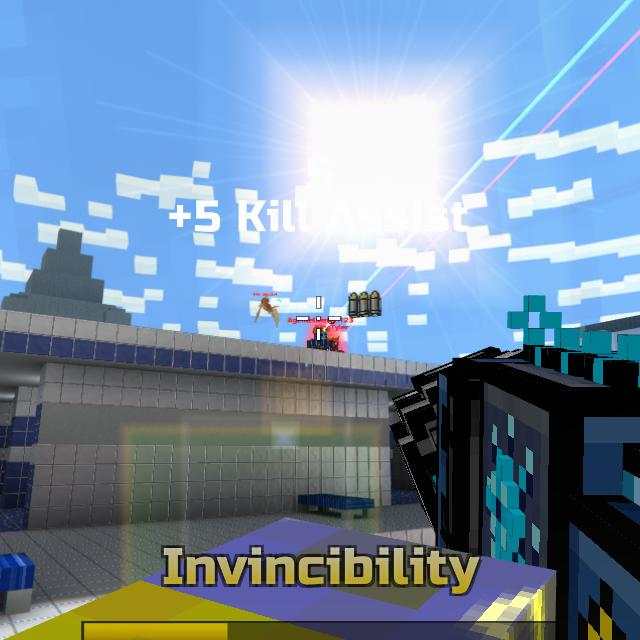Enemy: (306, 327, 339, 350)
